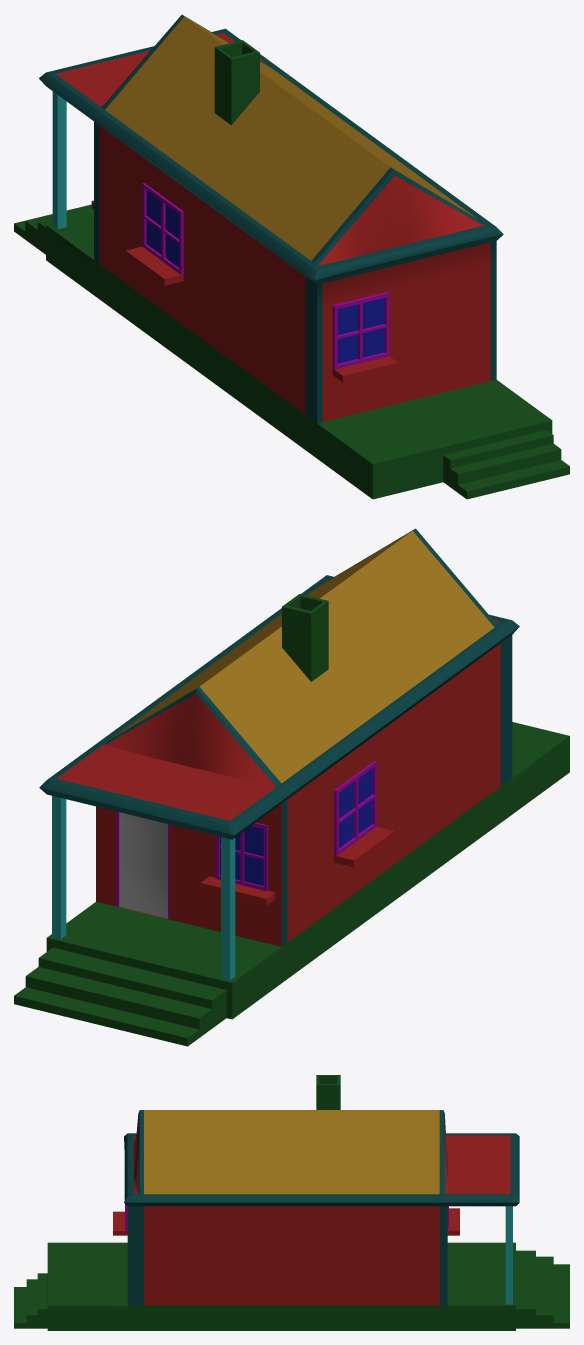
Rendered from dom01.FBX.
3 renders of one model, top to bottom at view 1: azimuth 30°, elevation 25°; view 2: azimuth 150°, elevation 25°; view 3: azimuth 270°, elevation 25°, orthographic. The views are drawn at different scales.
Parts seen in each view (by area): view 1: Box001, Box002; view 2: Box001, Box002, Box003; view 3: Box001, Box003.
Boxes of the visible parts, left/top/right/bottom form: Box001: left=14, top=14, right=569, bottom=499; Box002: left=52, top=91, right=66, bottom=229; Box001: left=14, top=528, right=569, bottom=1046; Box002: left=221, top=837, right=235, bottom=980; Box003: left=52, top=796, right=66, bottom=938; Box001: left=14, top=1075, right=569, bottom=1330; Box003: left=505, top=1206, right=512, bottom=1304.
Bounding box in the file's own units: 227 × 311 × 748.
